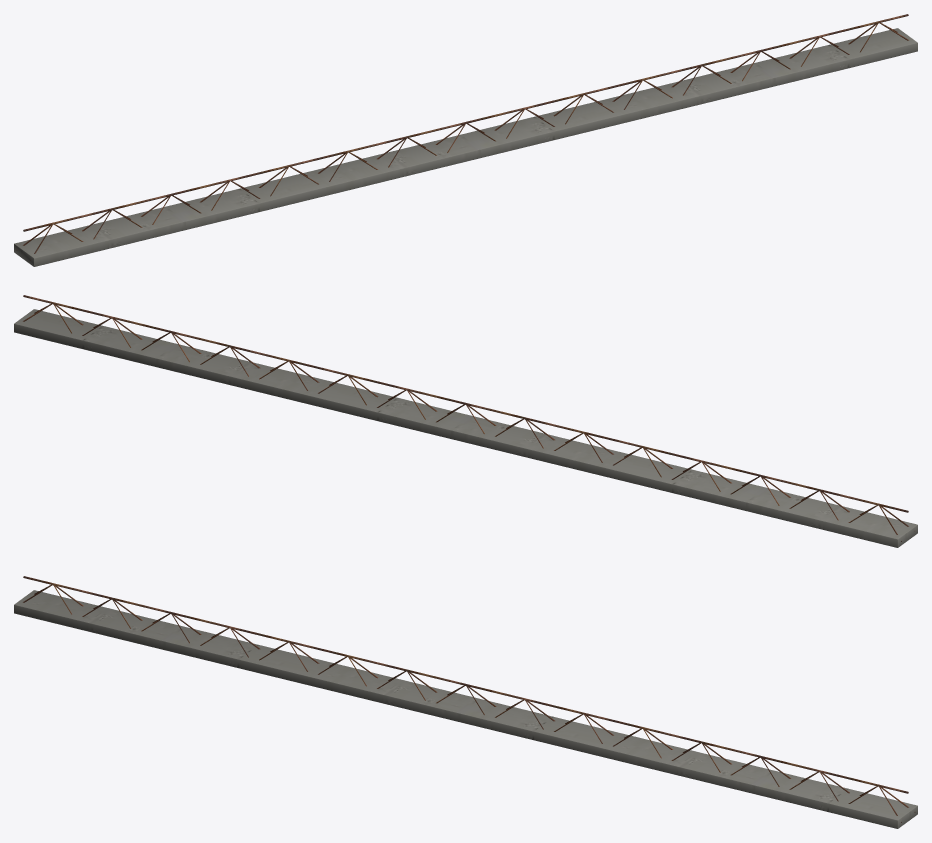
File: EST-LAJ-001_lod1.glb
3 renders of one model, top to bottom at view 1: azimuth 30°, elevation 25°; view 2: azimuth 150°, elevation 25°; view 3: azimuth 330°, elevation 25°, orthographic.
Visible parts, largest first — view 1: EST-LAJ-001_sapata, EST-LAJ-001_banzo_sup, EST-LAJ-001_sinus, EST-LAJ-001_sinus.001; view 2: EST-LAJ-001_sapata, EST-LAJ-001_banzo_sup, EST-LAJ-001_sinus.001, EST-LAJ-001_sinus; view 3: EST-LAJ-001_sapata, EST-LAJ-001_banzo_sup, EST-LAJ-001_sinus, EST-LAJ-001_sinus.001.
Part boxes in pixels (x1,y1,x2,y2): EST-LAJ-001_sapata: (14, 28, 917, 266); EST-LAJ-001_banzo_sup: (23, 14, 908, 231); EST-LAJ-001_sinus: (30, 22, 908, 260); EST-LAJ-001_sinus.001: (17, 23, 897, 250); EST-LAJ-001_sapata: (14, 309, 917, 547); EST-LAJ-001_banzo_sup: (23, 295, 908, 512); EST-LAJ-001_sinus.001: (23, 303, 901, 541); EST-LAJ-001_sinus: (34, 304, 914, 531); EST-LAJ-001_sapata: (14, 590, 917, 828); EST-LAJ-001_banzo_sup: (23, 576, 908, 793); EST-LAJ-001_sinus: (23, 584, 901, 822); EST-LAJ-001_sinus.001: (34, 585, 914, 812).
Bounding box in the file's own units: 3 × 0.0975 × 0.1199.
Materials: 2 (2 with a texture image).
